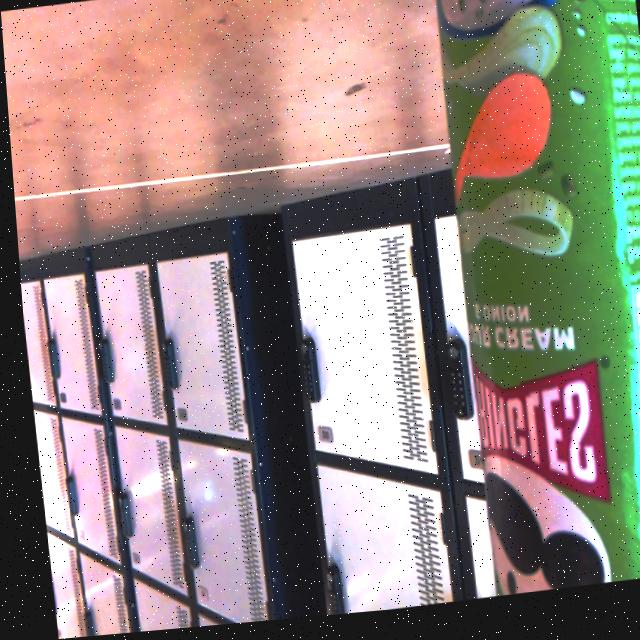greenpringles: (404, 0, 640, 608)
